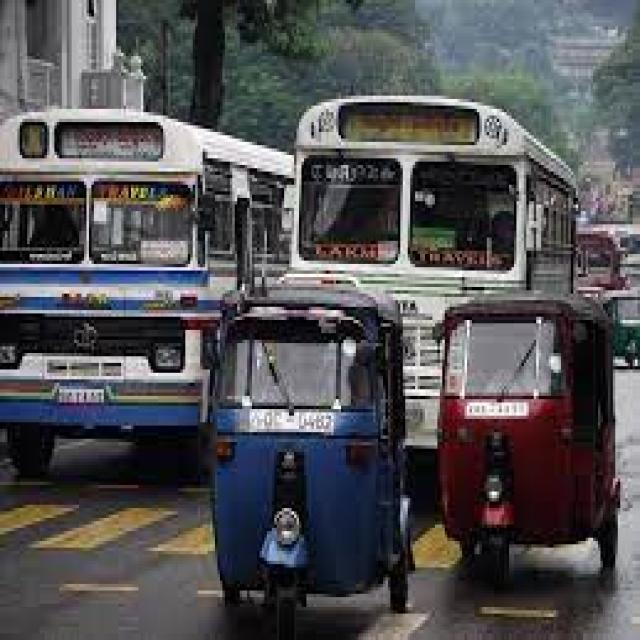bus: (0, 109, 292, 475), (292, 96, 571, 445), (576, 231, 625, 294)
three wheeler: (213, 290, 408, 637), (437, 297, 618, 584), (600, 290, 638, 366)
